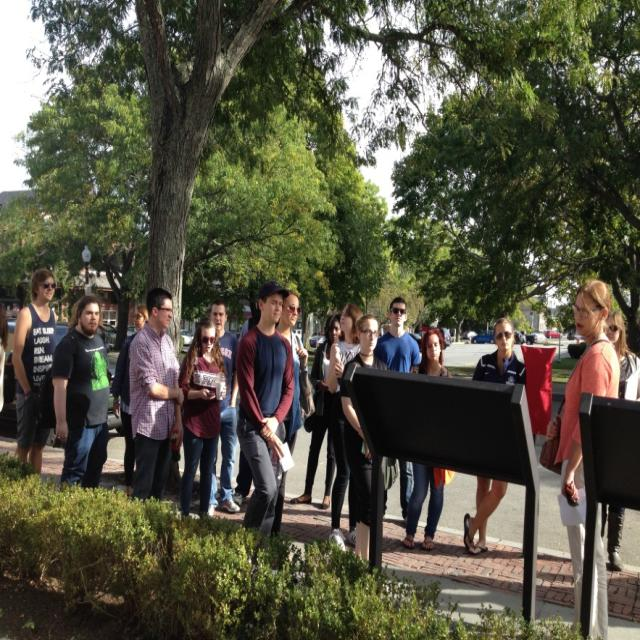body: (542, 278, 622, 640), (231, 278, 297, 570), (462, 315, 527, 559), (339, 313, 392, 568), (128, 285, 186, 503), (400, 325, 455, 553), (50, 293, 111, 490), (372, 295, 423, 525), (288, 310, 345, 512), (177, 313, 227, 521), (601, 308, 640, 574), (272, 286, 311, 547), (326, 301, 366, 552), (11, 267, 59, 475), (205, 297, 241, 520), (110, 304, 150, 492), (230, 309, 259, 505), (0, 296, 17, 485)
